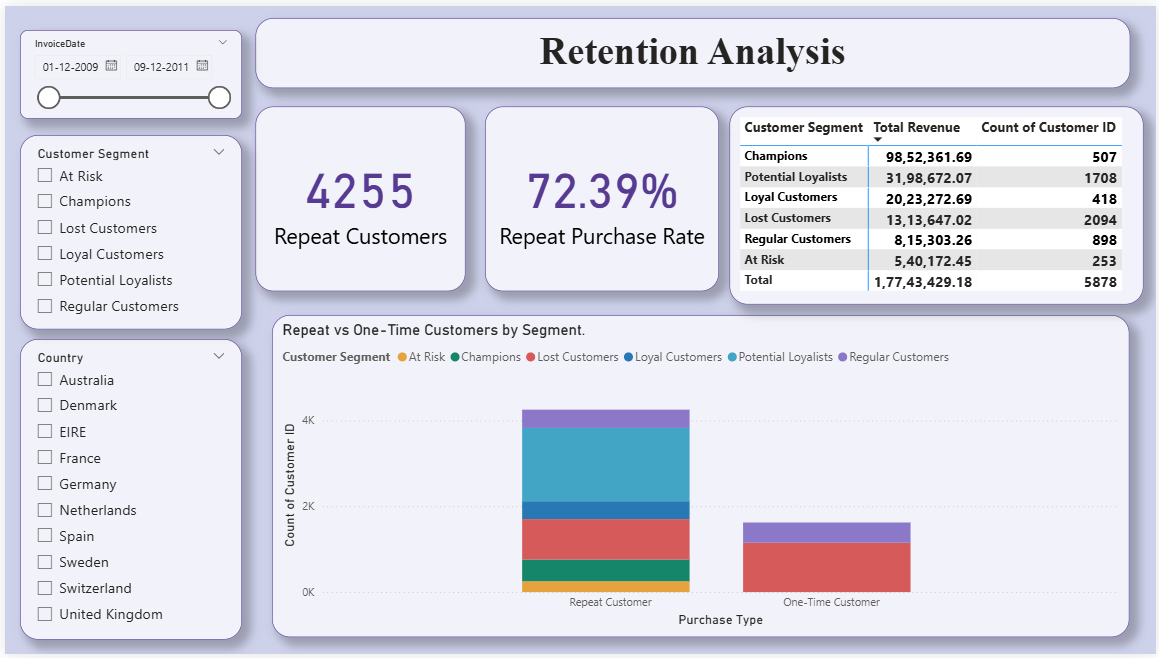

What the dashboard file says about the page in this screenshot:
{"tool":"powerbi","page":{"name":"Retention Analysis","canvas":[1280,720],"ordinal":2},"visuals":[{"type":"textbox","box":[278.4,12.7,971.9,77.9],"z":0},{"type":"card","fields":{"Values":["RetailData.Repeat Purchase Rate"]},"box":[533.3,111.7,260,205],"z":1000},{"type":"card","fields":{"Values":["RetailData.Repeat Customers"]},"box":[278.3,111.7,233.3,205],"z":2000},{"type":"columnChart","title":"Repeat vs One-Time Customers by Segment.","fields":{"Y":["Count(CustomerSummary.Customer ID)"],"Category":["CustomerSummary.Purchase Type"],"Series":["CustomerSummary.Customer Segment"]},"box":[297.4,343.6,952.8,357.9],"z":3000},{"type":"pivotTable","fields":{"Rows":["CustomerSummary.Customer Segment"],"Values":["Measures Table.Total Revenue","CountNonNull(CustomerSummary.Customer ID)"]},"box":[805,111.7,460,220],"z":4000},{"type":"slicer","fields":{"Values":["CustomerSummary.Customer Segment"]},"box":[17.5,143.2,246.5,216.3],"z":5000},{"type":"slicer","fields":{"Values":["RetailData.Country"]},"box":[17.5,370.6,246.5,334],"z":6000},{"type":"slicer","fields":{"Values":["RetailData.InvoiceDate"]},"box":[17.5,27,246.5,98.6],"z":7000}]}

Visuals, with their boxes in screenshot pixels (x1, y1, x2, y2), scaled from the page's 1280x720 canvas onto the 1159x658 screenshot:
textbox: locate(252, 12, 1132, 83)
card - RetailData.Repeat Purchase Rate: locate(483, 102, 718, 289)
card - RetailData.Repeat Customers: locate(252, 102, 463, 289)
"Repeat vs One-Time Customers by Segment." columnChart: locate(269, 314, 1132, 641)
pivotTable - CustomerSummary.Customer Segment x Measures Table.Total Revenue: locate(729, 102, 1145, 303)
slicer - CustomerSummary.Customer Segment: locate(16, 131, 239, 329)
slicer - RetailData.Country: locate(16, 339, 239, 644)
slicer - RetailData.InvoiceDate: locate(16, 25, 239, 115)
